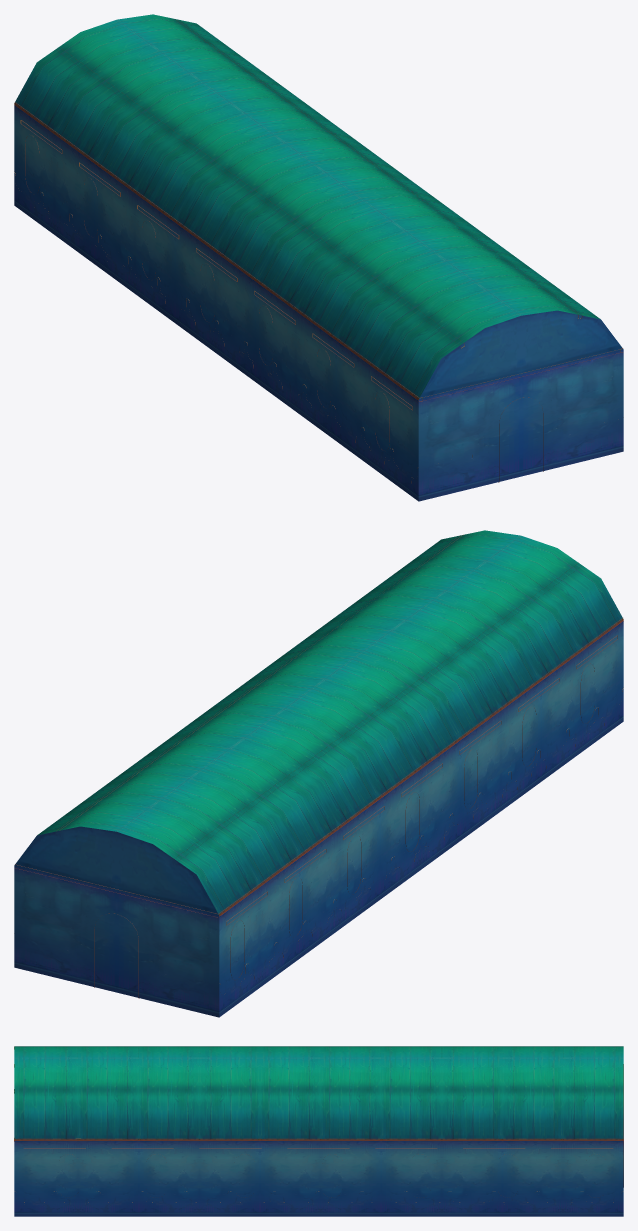
Rendered from stage.glb.
3 renders of one model, top to bottom at view 1: azimuth 30°, elevation 25°; view 2: azimuth 150°, elevation 25°; view 3: azimuth 270°, elevation 25°, orthographic. The views are drawn at different scales.
Parts seen in each view (by area): view 1: KORE_export_5_walls_1.0_0_0; view 2: KORE_export_5_walls_1.0_0_0, KORE_export_5_windows_1.0_0_0; view 3: KORE_export_5_walls_1.0_0_0.
Boxes of the visible parts, bbox=[...] form: KORE_export_5_walls_1.0_0_0: bbox=[14, 14, 623, 501]; KORE_export_5_walls_1.0_0_0: bbox=[14, 530, 623, 1017]; KORE_export_5_windows_1.0_0_0: bbox=[94, 663, 623, 998]; KORE_export_5_walls_1.0_0_0: bbox=[14, 1046, 623, 1216].
Bounding box in the file's own units: 5.28 × 3.96 × 18.
3 materials, 3 textured.
